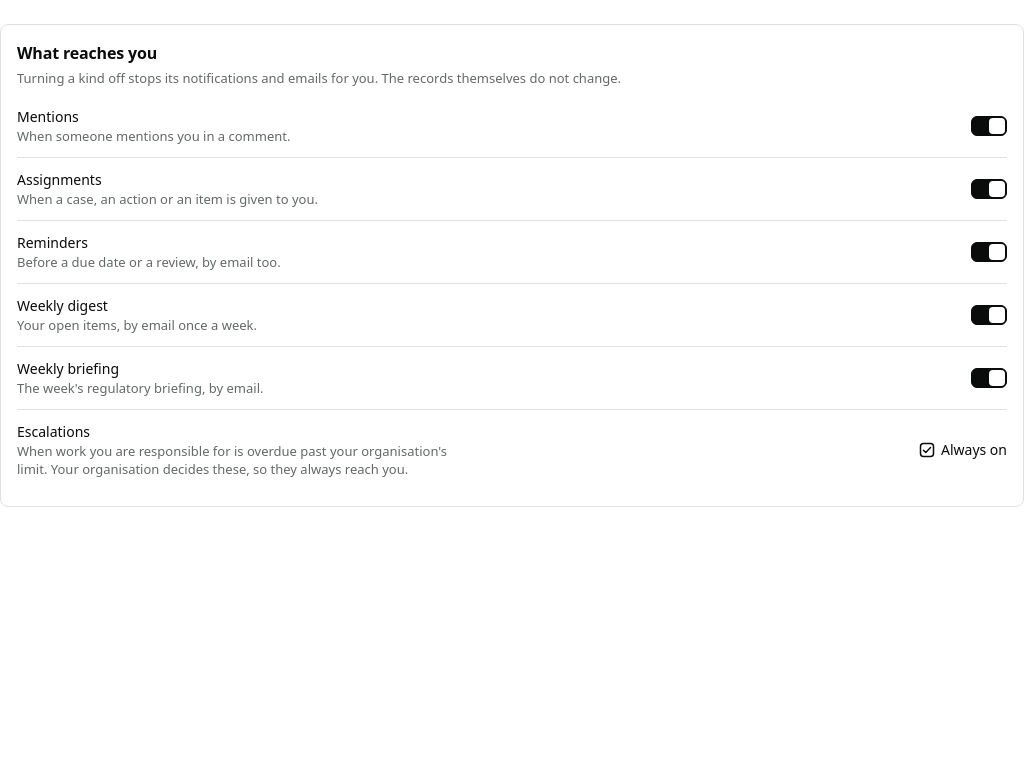
Test: notification preferences › saves a change at once as the whole set of switches, moving the switch before the answer
This screenshot has width=1024, height=768.
Later steps or results of the test are not shown.
Click the switch named "Weekly briefing" in the row of "Weekly briefing" at (989,378), box [971,368,1007,388]
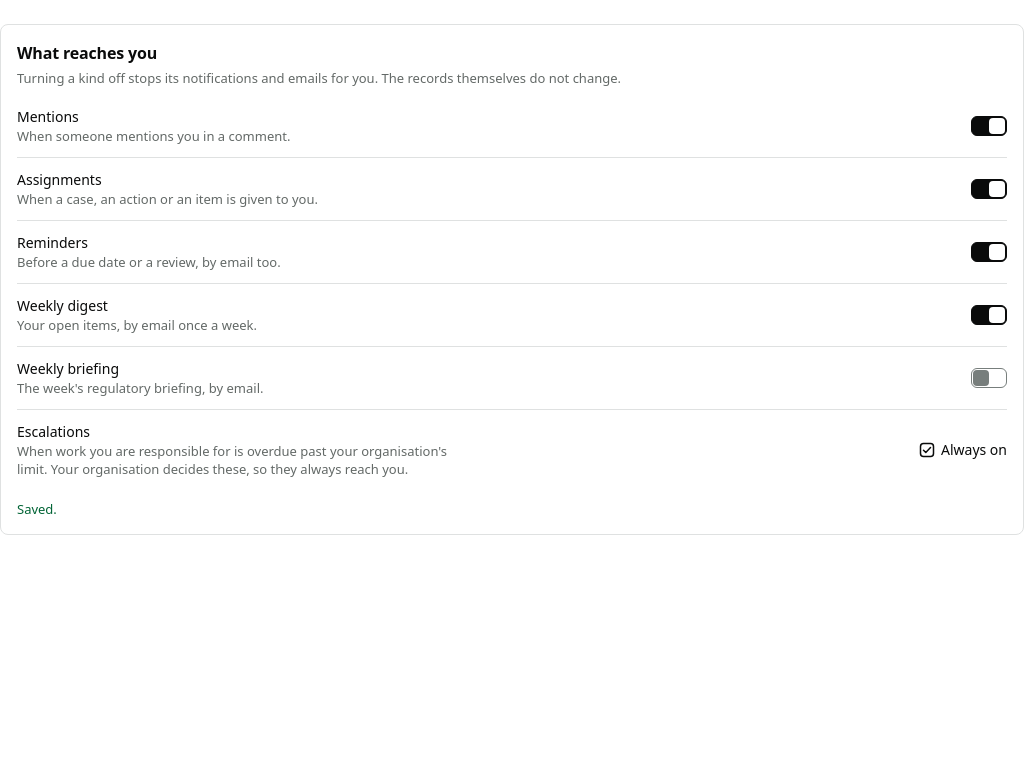
Now the text "Saved." is shown, box [17,500,57,518]
